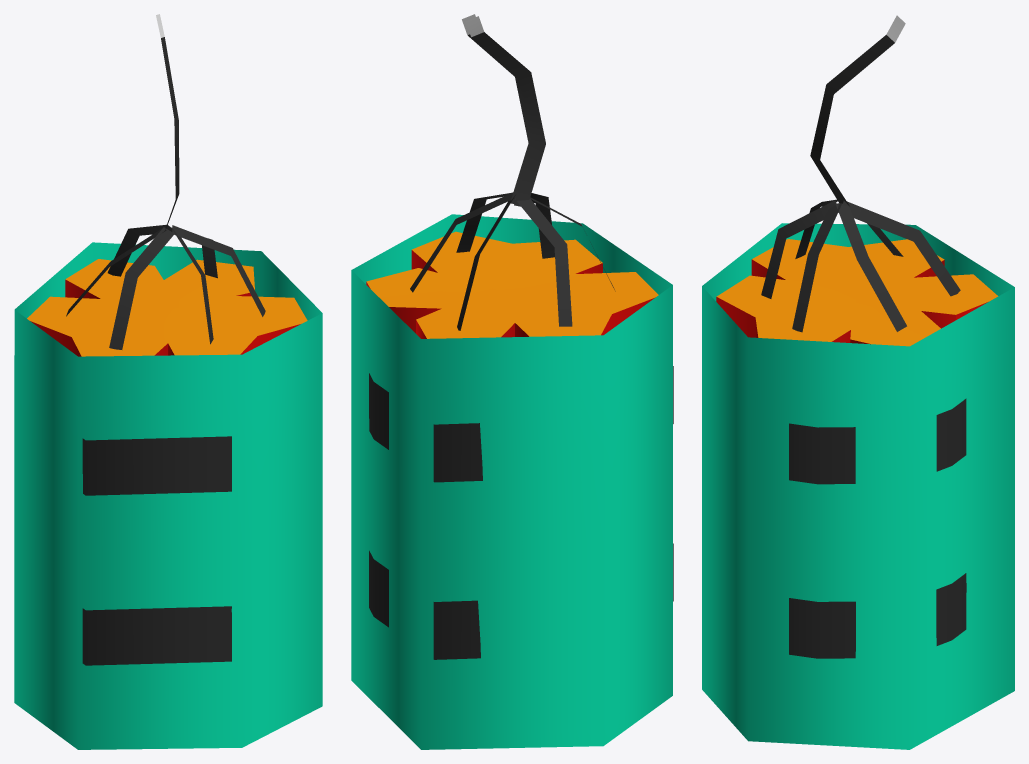
The model's file is tnt_2_booster.fbx.
3 views of the same model, side by side, from view 1: azimuth 30°, elevation 25°; view 2: azimuth 150°, elevation 25°; view 3: azimuth 270°, elevation 25° (orthographic). The views are drawn at different scales.
Parts seen in each view (by area): view 1: tnt_2_booster; view 2: tnt_2_booster; view 3: tnt_2_booster.
Part boxes in pixels (left/top/right/bottom): tnt_2_booster: left=14, top=14, right=322, bottom=749; tnt_2_booster: left=351, top=14, right=673, bottom=749; tnt_2_booster: left=702, top=15, right=1014, bottom=749.
Bounding box in the file's own units: 1.47 × 3.79 × 1.58.
